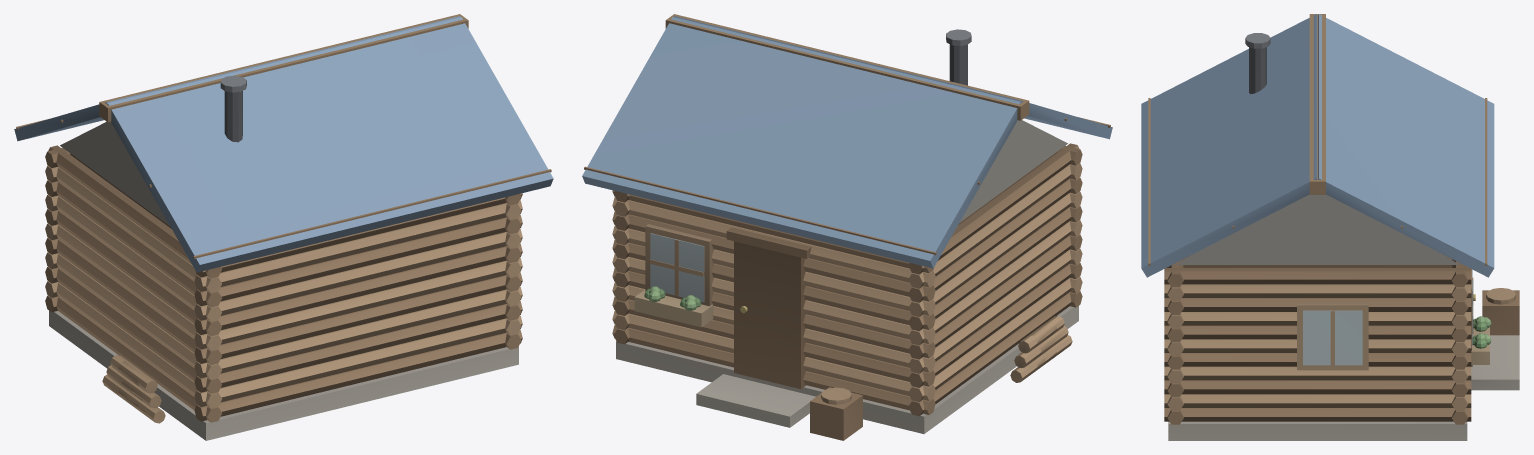
The model's file is home_hut__blue.glb.
The picture shows the model from 3 angles, left to right: view 1: azimuth 30°, elevation 25°; view 2: azimuth 150°, elevation 25°; view 3: azimuth 270°, elevation 25°; orthographic projection. The views are drawn at different scales.
Bounding box in the file's own units: 5.3 × 4.31 × 5.06.
